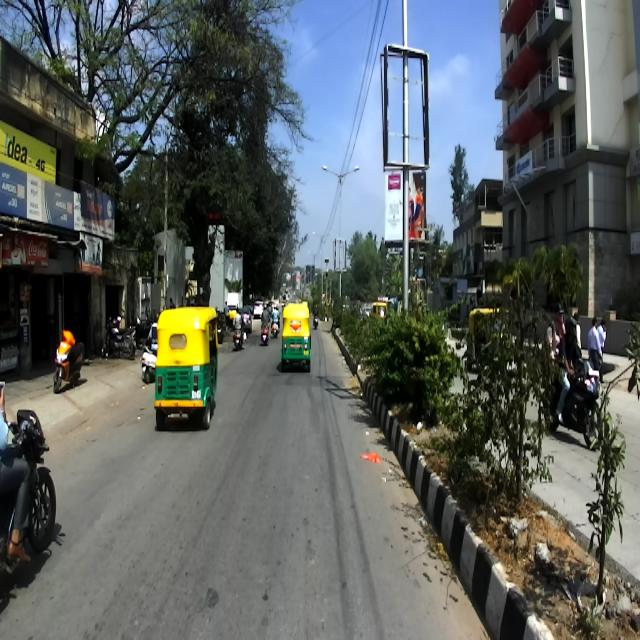auto ahead at: (150, 306, 220, 426), (278, 303, 318, 378)
